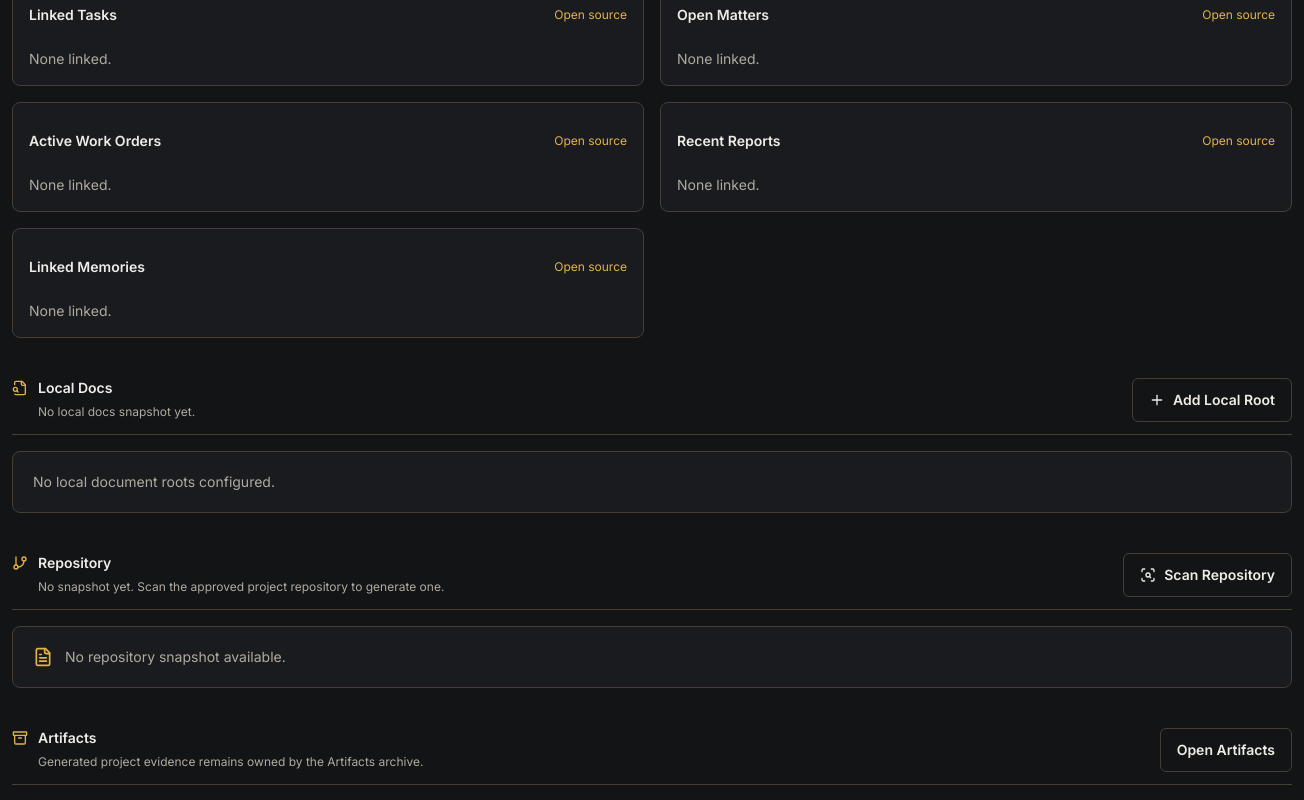
Scenario: ProjectDetailPage — Local Docs › lets the KING add a local root through the Add Local Root form
(page scrolled)
Click the button "Add Local Root": (1212, 400) left=1132, top=378, right=1292, bottom=422
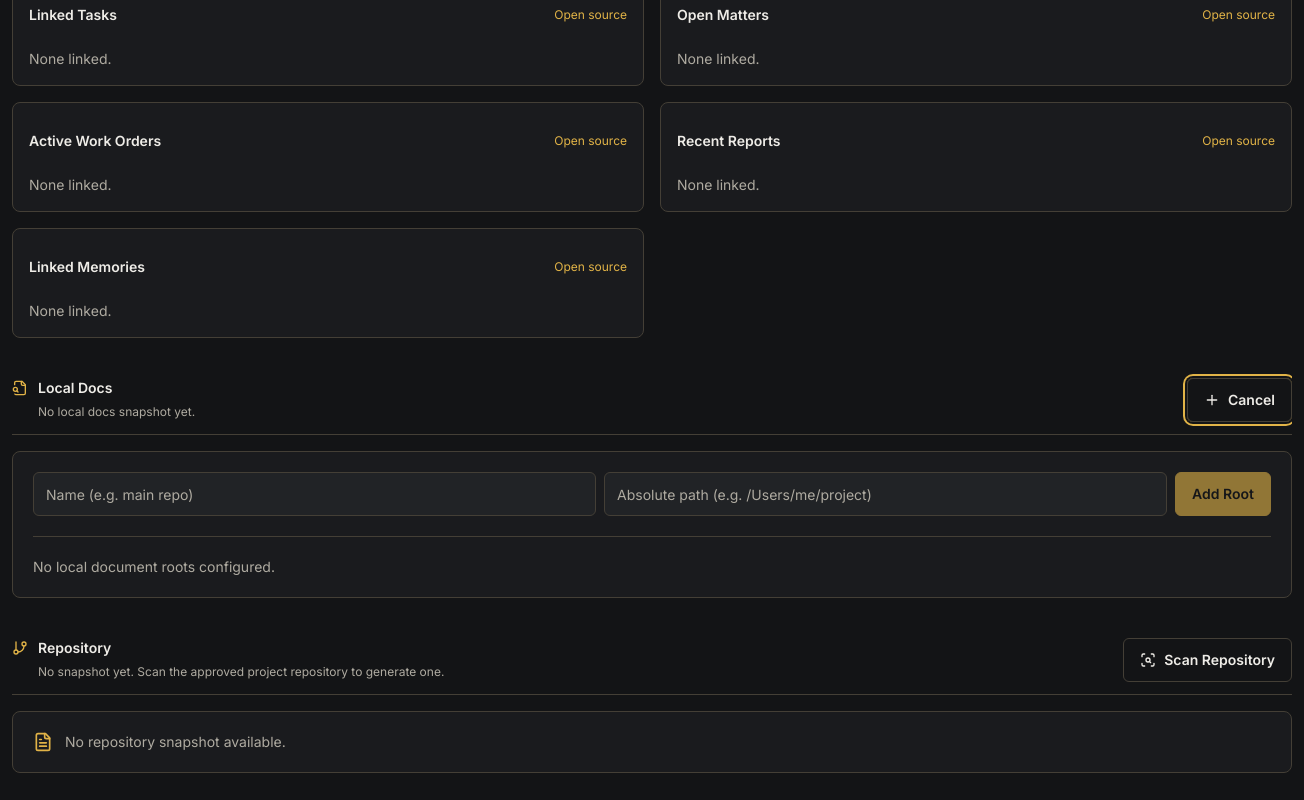
In the field with placeholder "Name (e.g. main repo)": (314, 494) left=33, top=472, right=596, bottom=516, type "new-root"
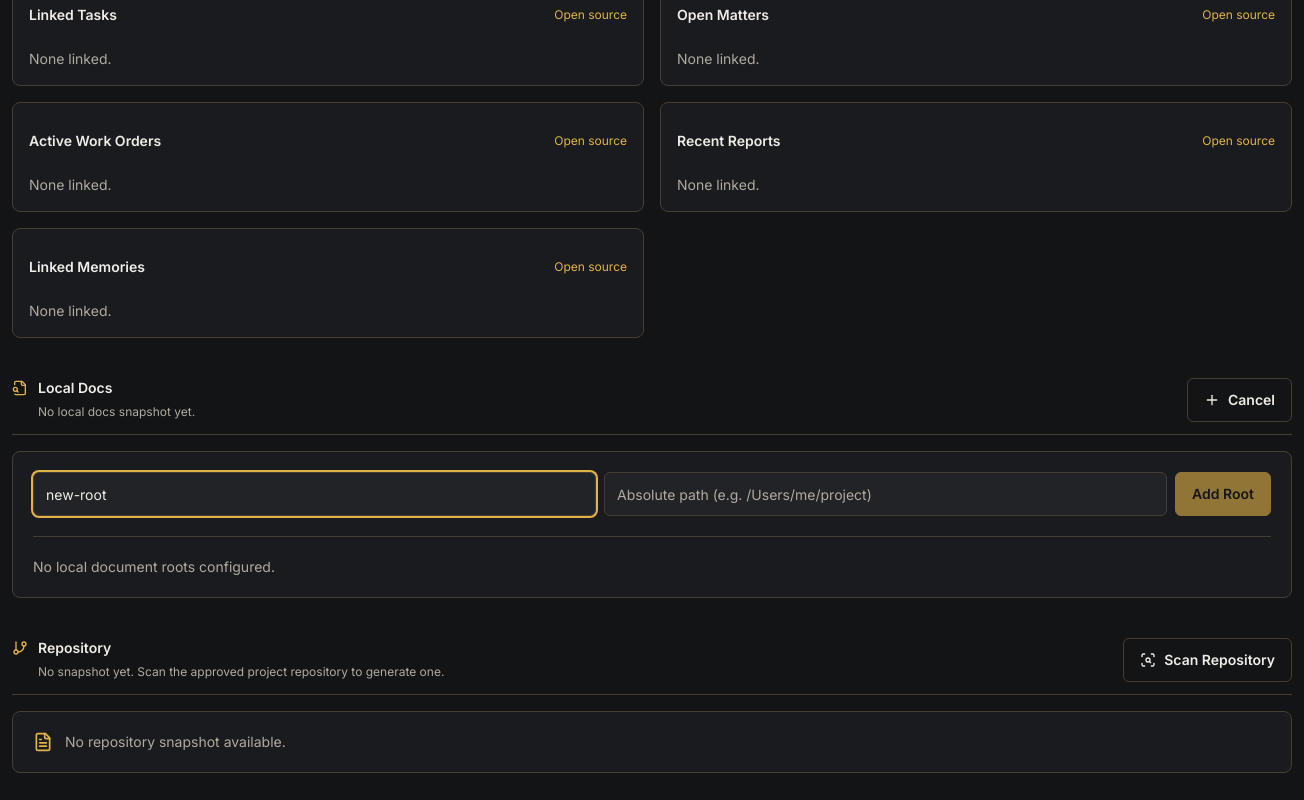
In the field with placeholder "Absolute path (e.g. /Users/me/project)": (886, 494) left=604, top=472, right=1167, bottom=516, type "/Users/king/castle"
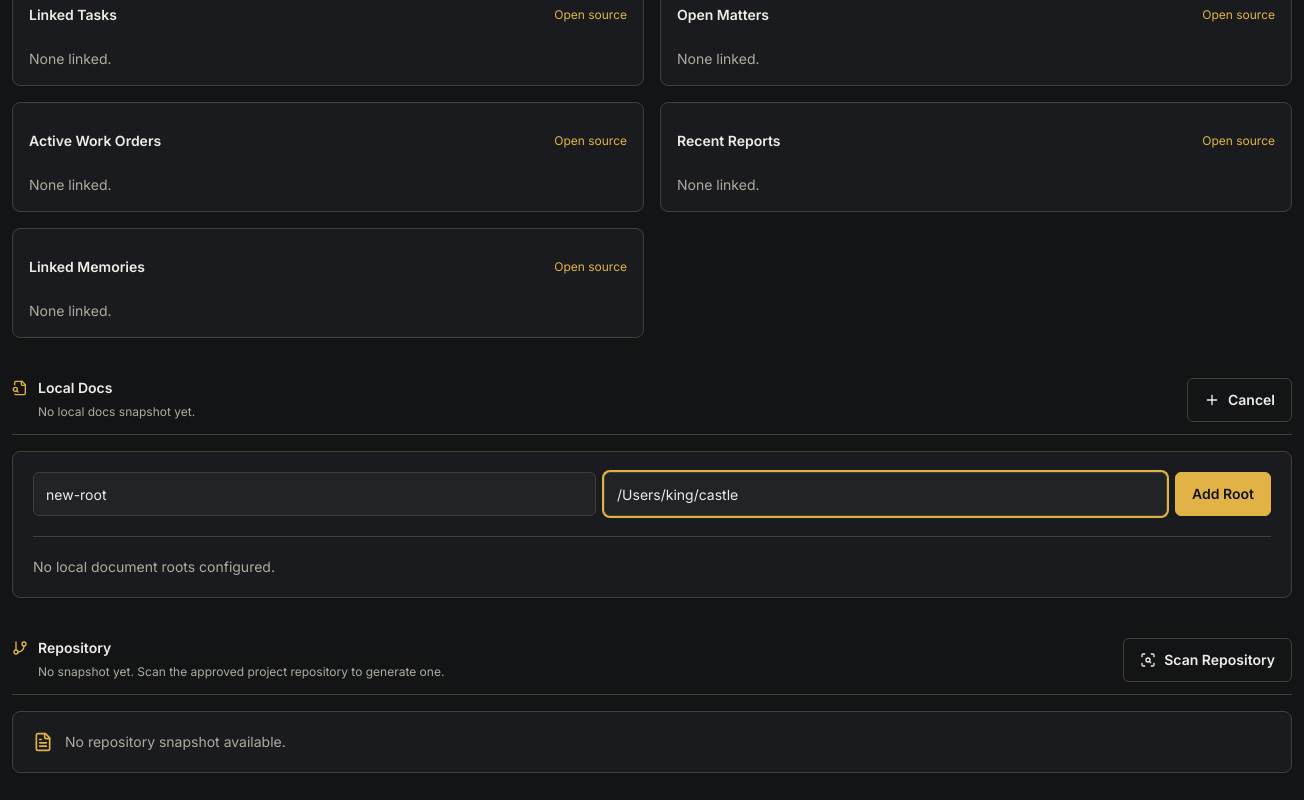
Click the button "Add Root": (1223, 494) left=1175, top=472, right=1271, bottom=516
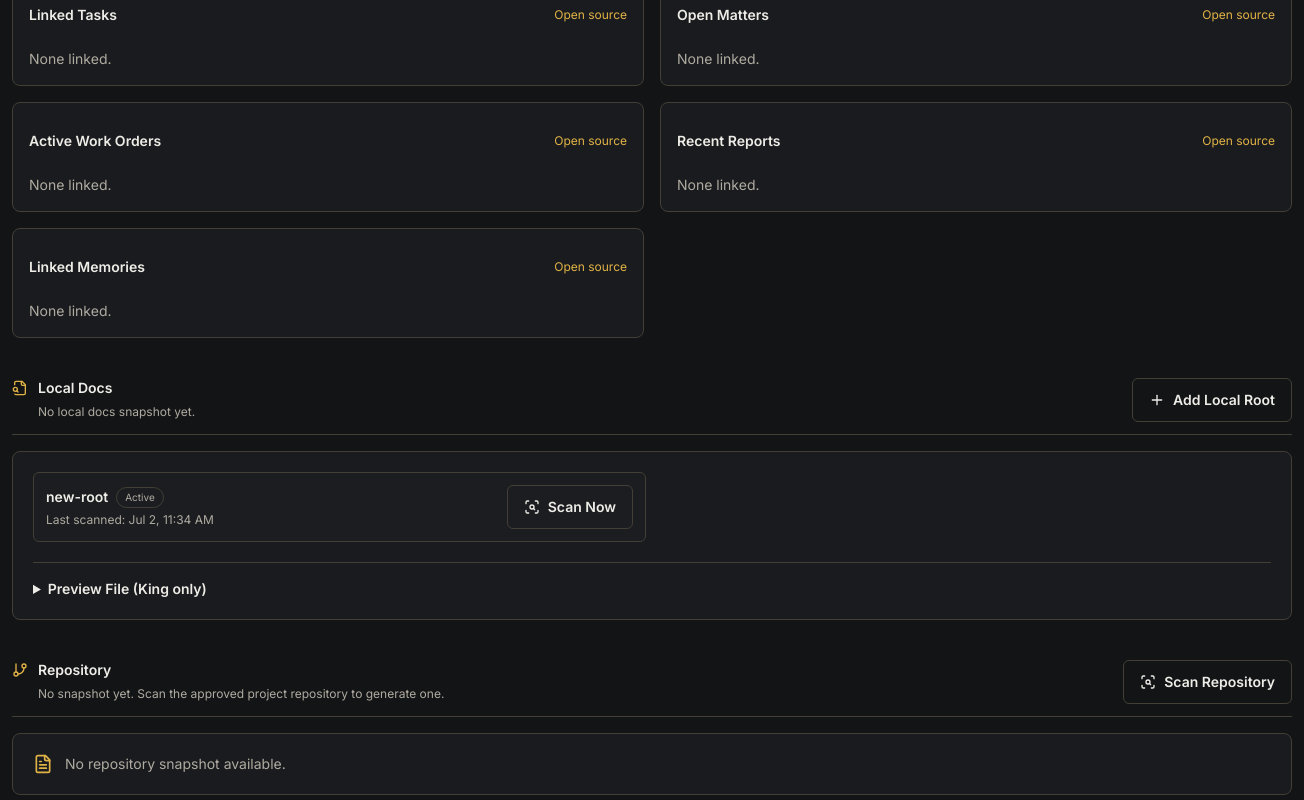
Expected: the text "new-root" is shown, left=46, top=487, right=108, bottom=507
